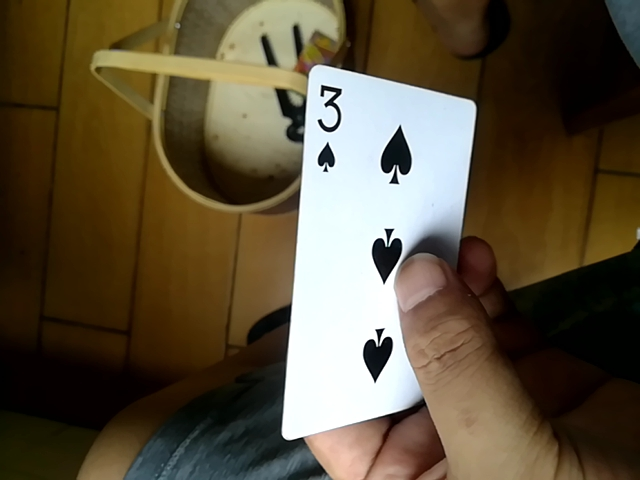ht 3: (281, 49, 465, 448)
